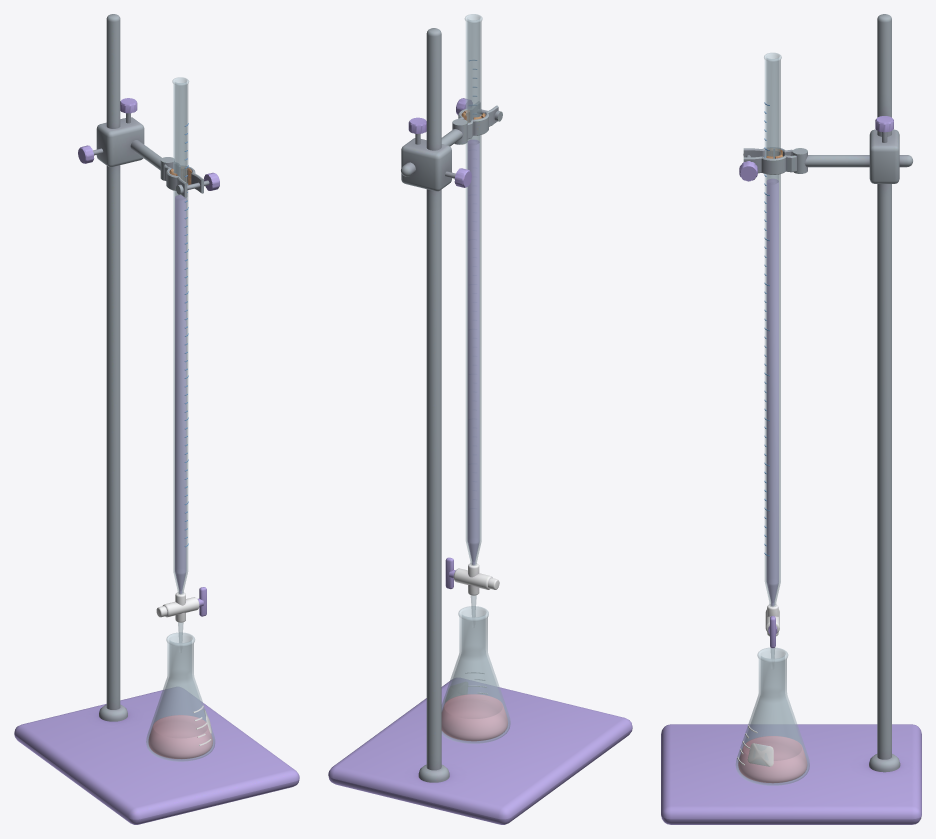
The model's file is burette.glb.
The picture shows the model from 3 angles, left to right: view 1: azimuth 30°, elevation 25°; view 2: azimuth 150°, elevation 25°; view 3: azimuth 270°, elevation 25°; orthographic projection. The views are drawn at different scales.
Parts seen in each view (by area): view 1: burette_body, burette_burette_glass, burette_liquid_fluid; view 2: burette_body, burette_burette_glass, burette_liquid_fluid; view 3: burette_body, burette_burette_glass, burette_liquid_fluid.
Part boxes in pixels (x1,y1,x2,y2): burette_body: (14,14,299,824); burette_burette_glass: (146,77,215,761); burette_liquid_fluid: (148,195,212,758); burette_body: (328,28,632,824); burette_burette_glass: (441,14,510,743); burette_liquid_fluid: (441,139,507,741); burette_body: (661,14,921,824); burette_burette_glass: (735,52,809,785); burette_liquid_fluid: (738,178,807,783).
Size of the model in its own units: 0.17 by 0.682 by 0.21.
5 materials, 2 textured.
